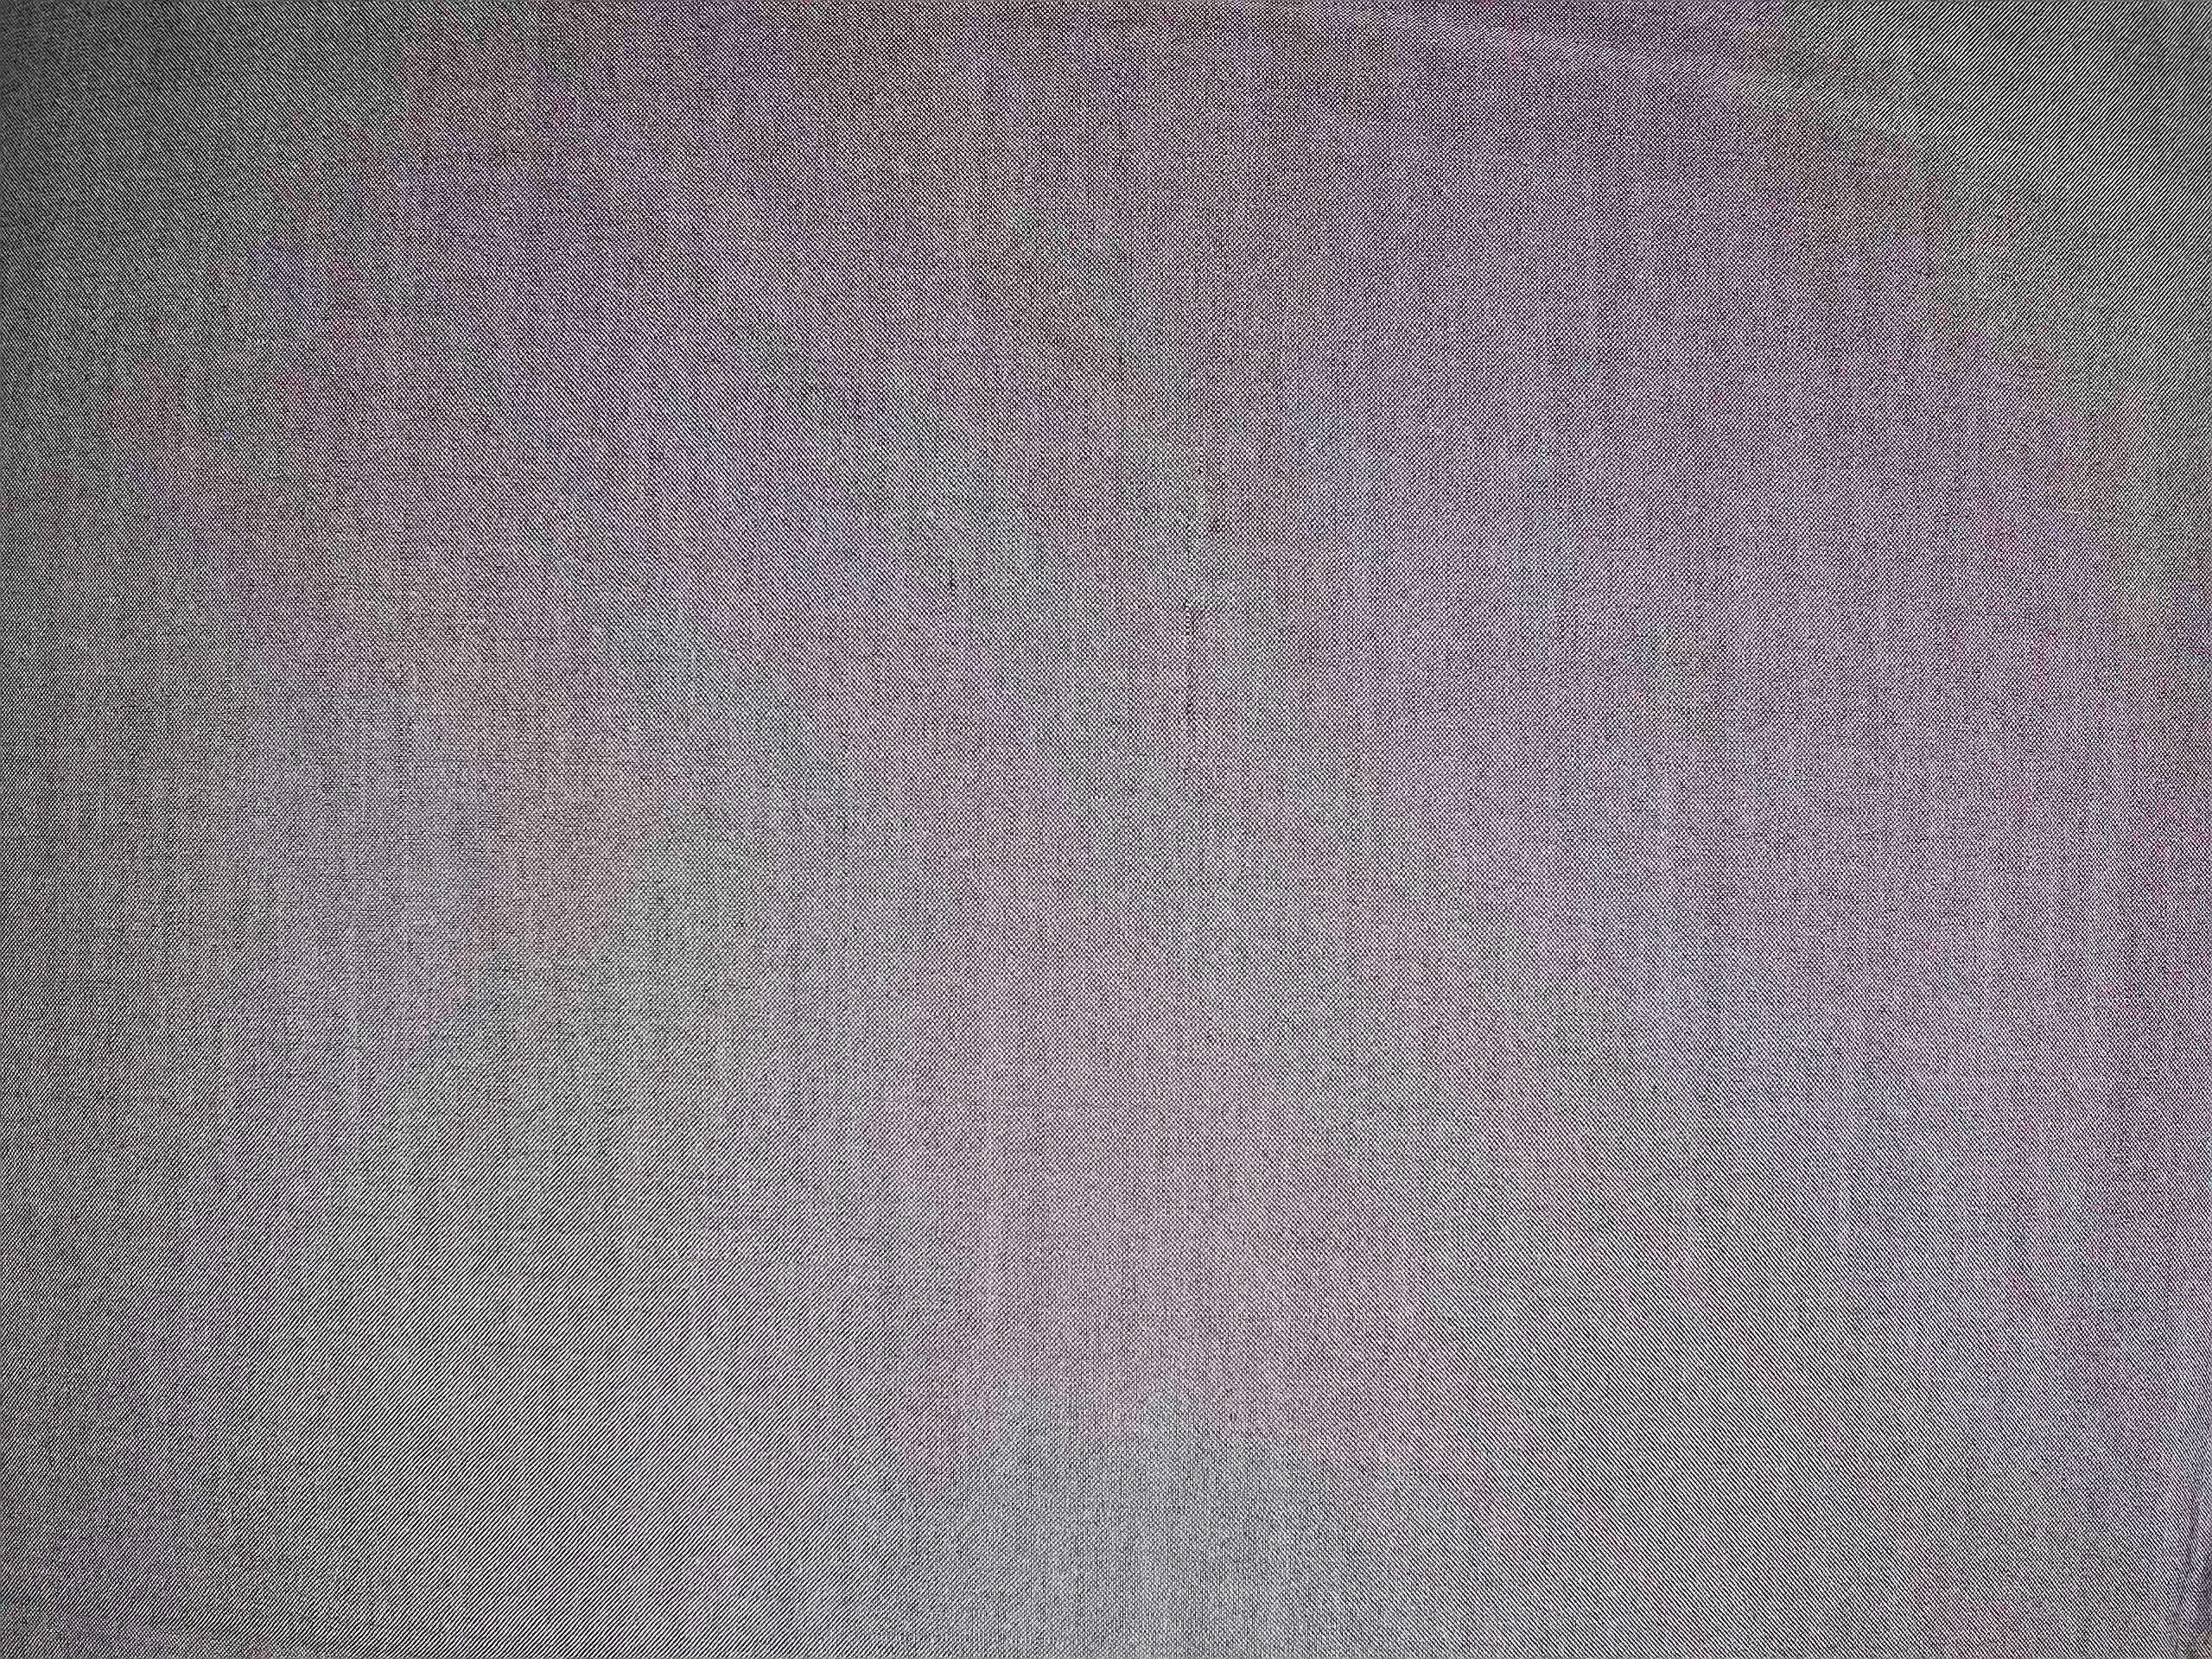hanging-warp: (1169, 420, 1219, 814)
